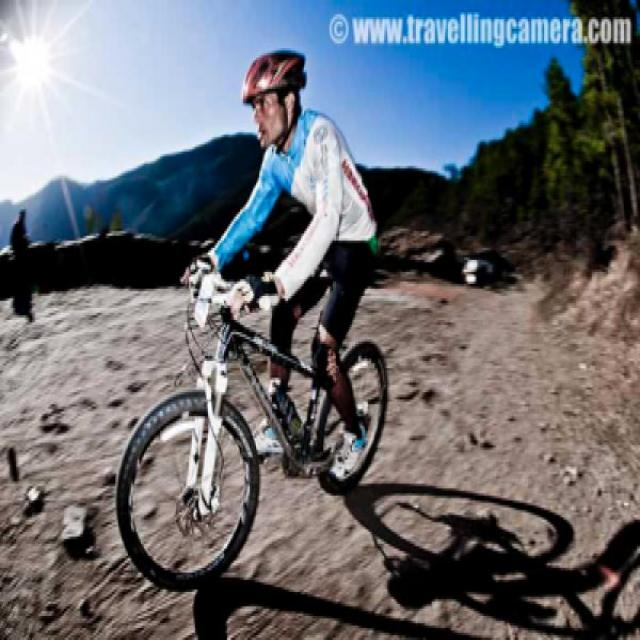Helmet: (228, 45, 305, 161)
